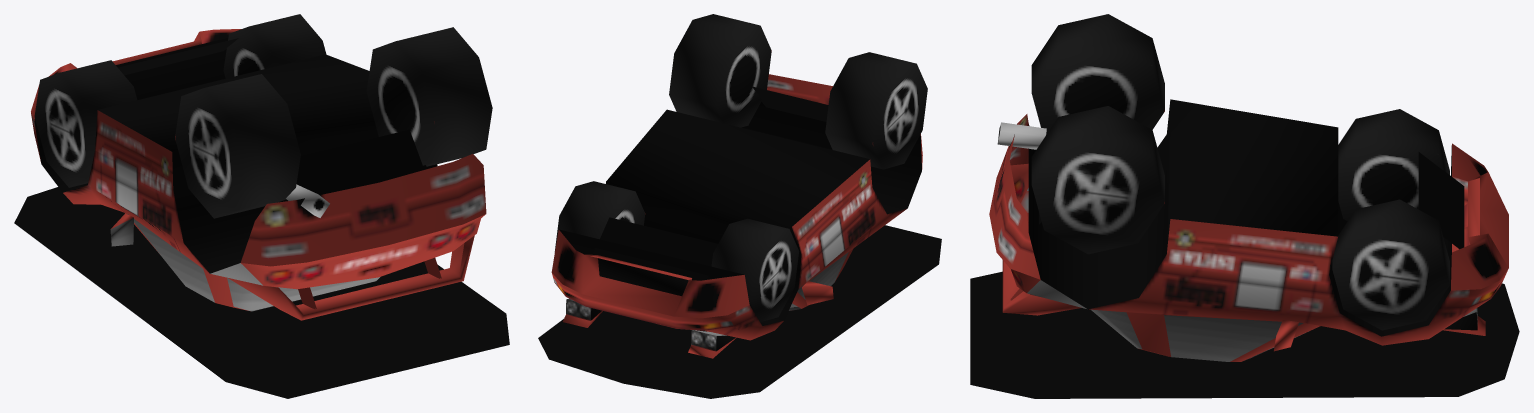
The model's file is icon3.ico.obj.
3 views of the same model, side by side, from view 1: azimuth 30°, elevation 25°; view 2: azimuth 150°, elevation 25°; view 3: azimuth 270°, elevation 25° (orthographic). The views are drawn at different scales.
Size of the model in its own units: 2.7 by 2.42 by 4.67.
1 material, 1 textured.
